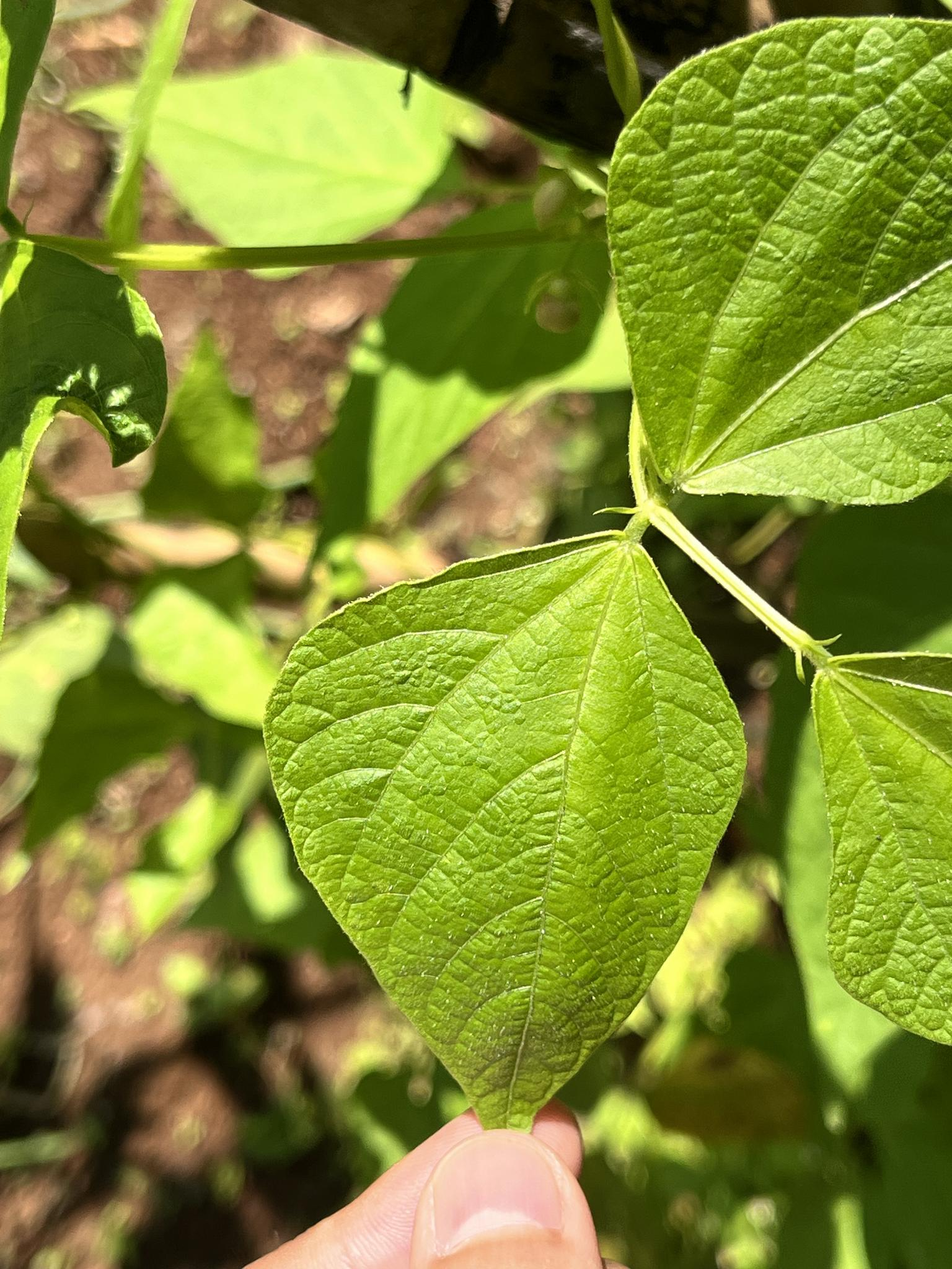sehat: (272, 542, 750, 1137)
